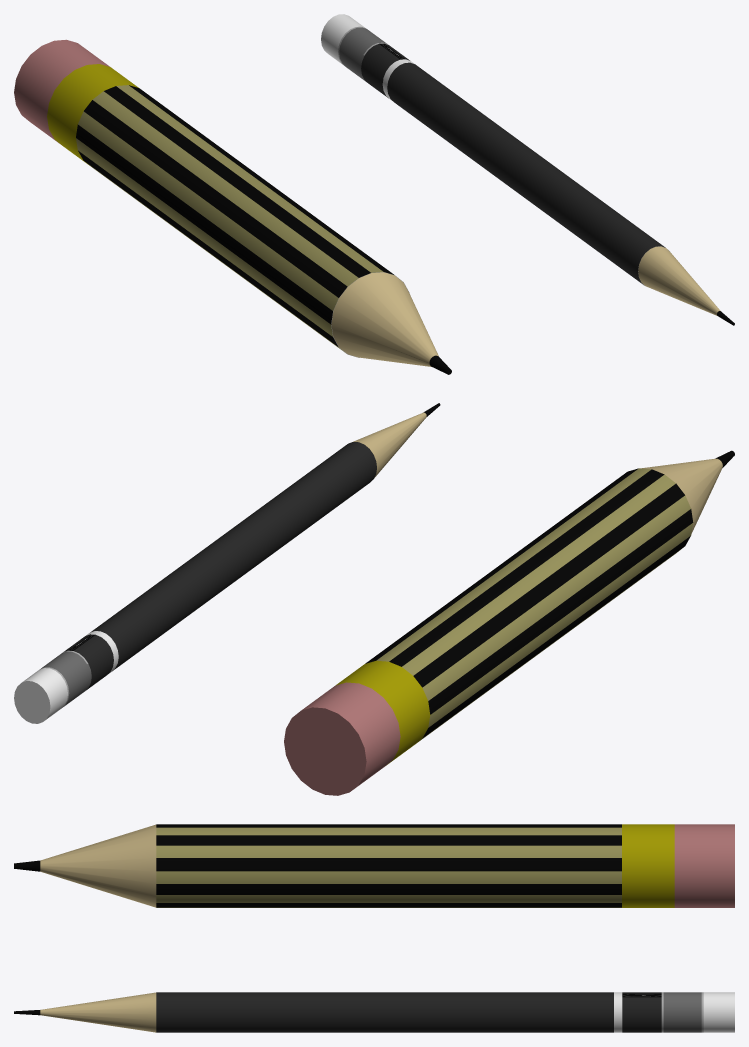
The picture shows the model from 3 angles, top to bottom: view 1: azimuth 30°, elevation 25°; view 2: azimuth 150°, elevation 25°; view 3: azimuth 270°, elevation 25°; orthographic projection. The views are drawn at different scales.
Parts seen in each view (by area): view 1: pasted__pCylinder1, pCylinder1, pasted__pCylinder2, pCylinder2; view 2: pasted__pCylinder1, pCylinder1, pasted__pCylinder2, pCylinder2; view 3: pasted__pCylinder1, pCylinder1, pasted__pCylinder2, pCylinder2.
Boxes of the visible parts, box(x1,y1,x2,y2) form: pasted__pCylinder1: box(14, 39, 409, 357); pCylinder1: box(321, 14, 669, 285); pasted__pCylinder2: box(331, 272, 451, 374); pCylinder2: box(638, 246, 734, 325); pasted__pCylinder1: box(284, 468, 693, 795); pCylinder1: box(14, 442, 376, 723); pasted__pCylinder2: box(642, 450, 734, 533); pCylinder2: box(353, 403, 440, 478); pasted__pCylinder1: box(156, 824, 734, 907); pCylinder1: box(156, 992, 734, 1032); pasted__pCylinder2: box(14, 824, 156, 907); pCylinder2: box(14, 992, 156, 1032).
Size of the model in its own units: 2.39 by 0.562 by 4.78.
15 materials, 1 textured.
